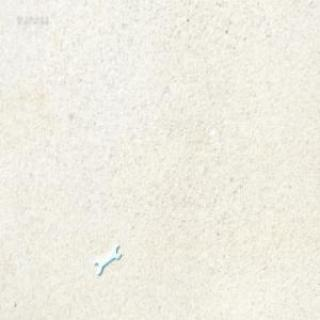Wrenchtrack_idkeyframe: (95, 244, 121, 275)
